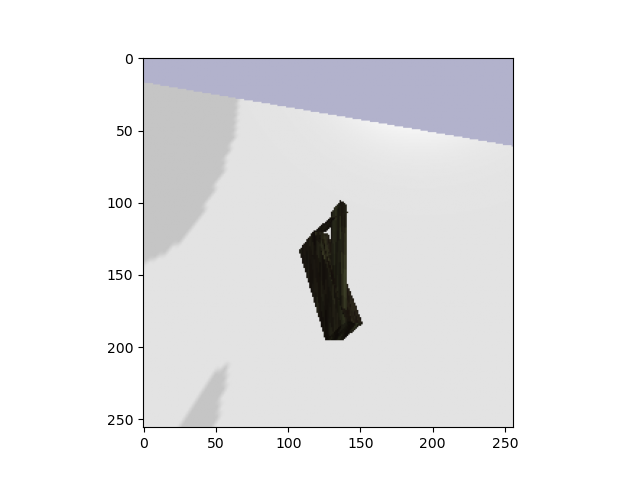v249b387_109: (296, 189, 371, 346)
